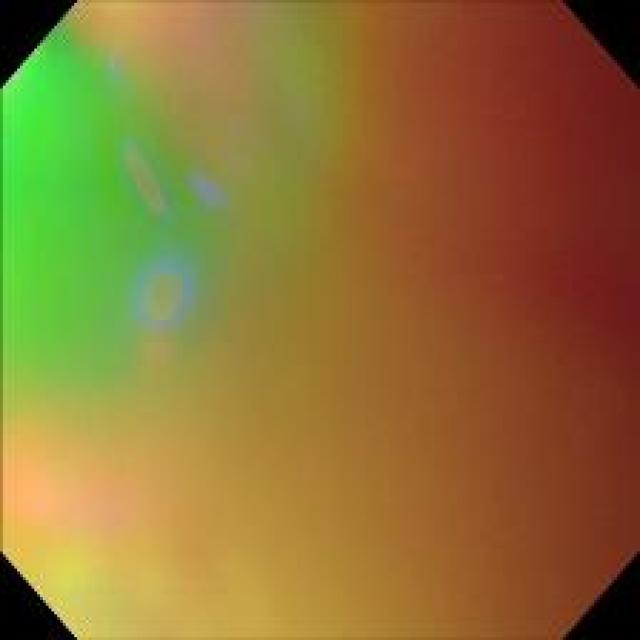color misalignment: (5, 14, 631, 620), (8, 16, 214, 451)
specularity: (124, 146, 166, 214), (142, 274, 188, 316)
